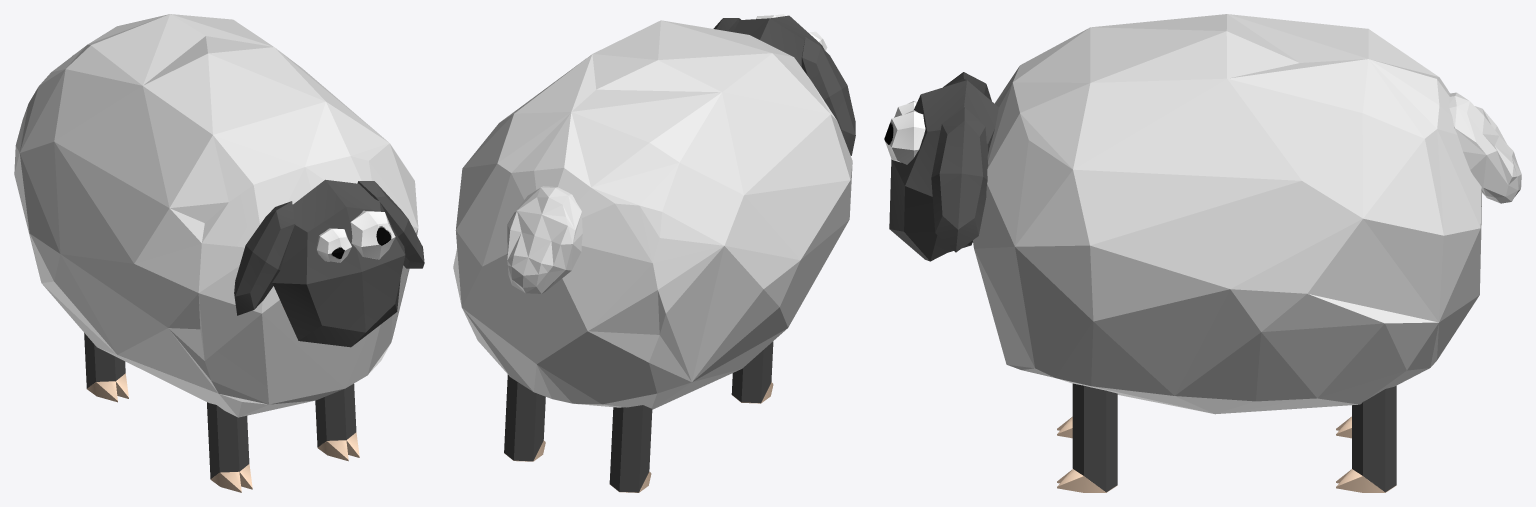
File: sheep-low.fbx
3 renders of one model, left to right at view 1: azimuth 30°, elevation 25°; view 2: azimuth 150°, elevation 25°; view 3: azimuth 270°, elevation 25°, orthographic. The views are drawn at different scales.
Visible parts, largest first — view 1: sheep-colorable.low, sheep-skin.low, sheep-eye-l.low, sheep-eye-r.low; view 2: sheep-colorable.low, sheep-skin.low, sheep-tail.low; view 3: sheep-colorable.low, sheep-skin.low, sheep-tail.low, sheep-eye-l.low.
Part boxes in pixels (<box>): sheep-colorable.low: <box>14,14,418,417</box>; sheep-skin.low: <box>84,179,424,492</box>; sheep-eye-l.low: <box>350,210,395,259</box>; sheep-eye-r.low: <box>316,228,351,262</box>; sheep-colorable.low: <box>453,20,852,409</box>; sheep-skin.low: <box>504,15,855,492</box>; sheep-tail.low: <box>507,186,582,293</box>; sheep-colorable.low: <box>973,14,1481,414</box>; sheep-skin.low: <box>889,72,1396,492</box>; sheep-tail.low: <box>1449,92,1521,203</box>; sheep-eye-l.low: <box>884,110,925,164</box>.
Size of the model in its own units: 0.8595 by 1 by 1.37.
5 materials, 1 textured.
